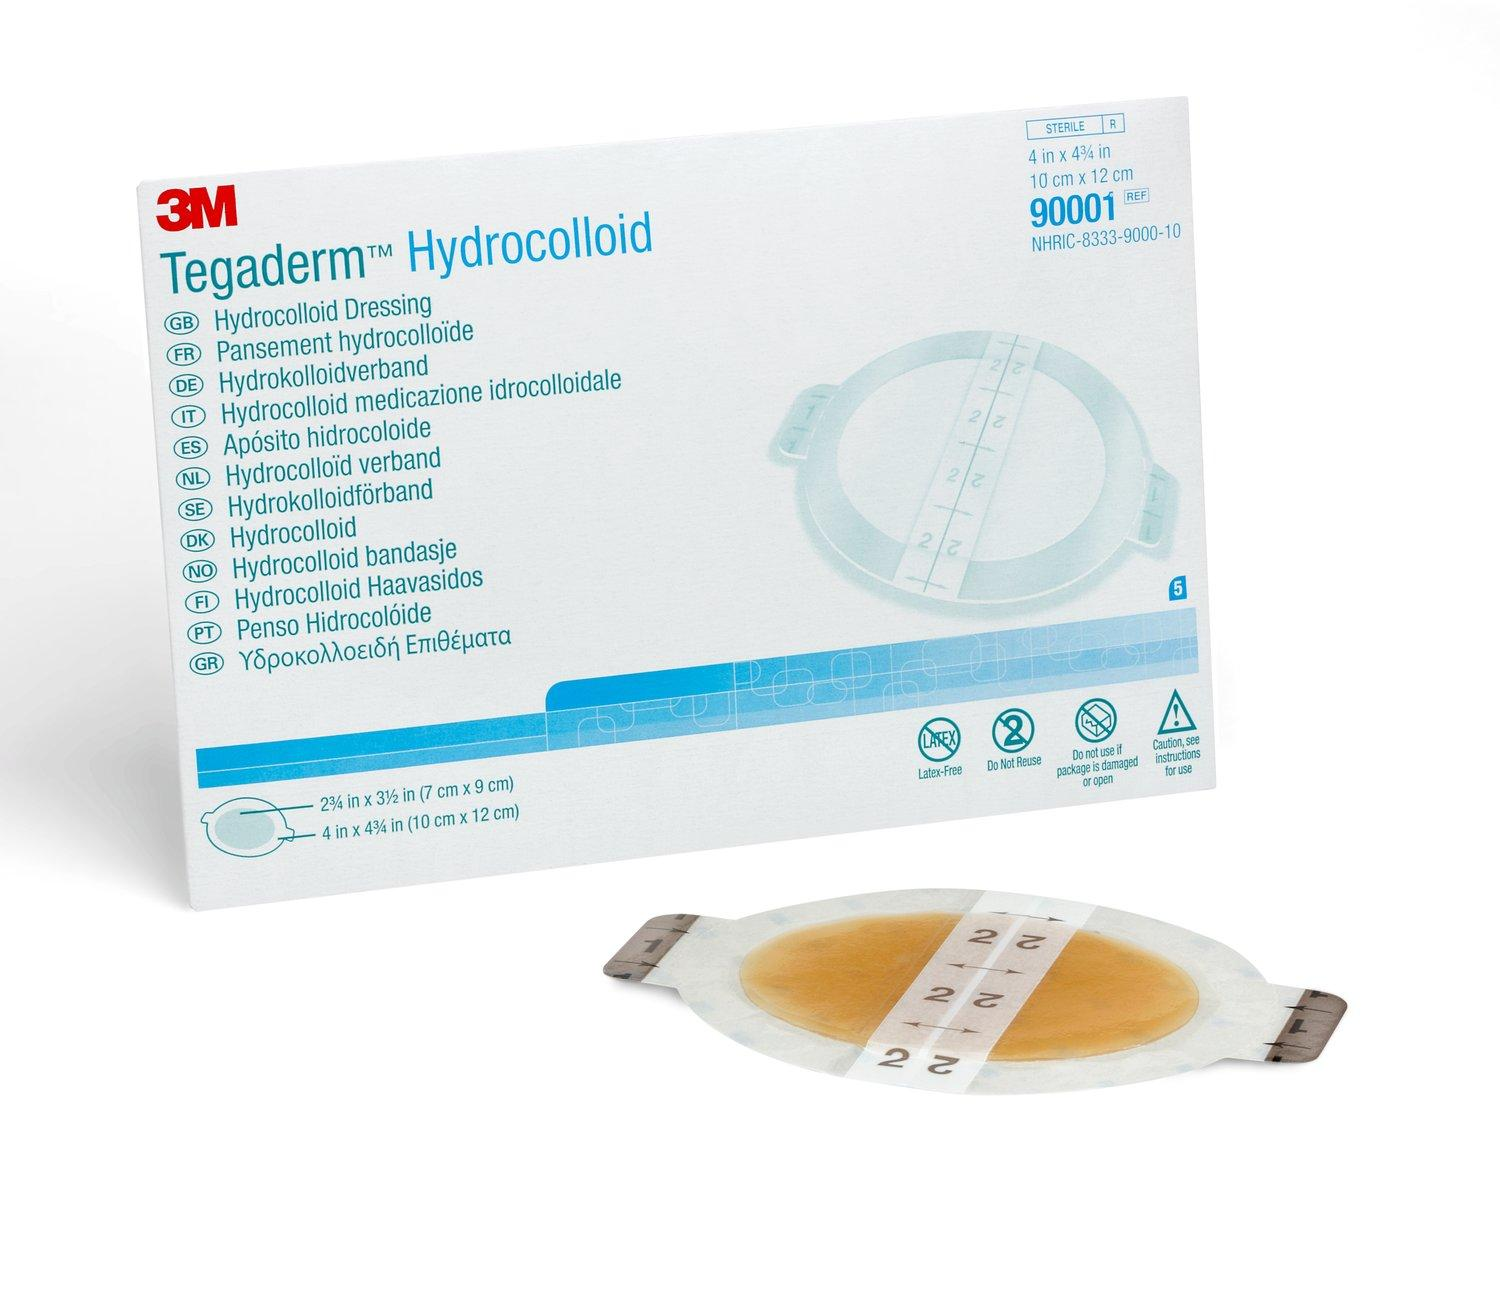bandage: (603, 885, 1347, 1104)
